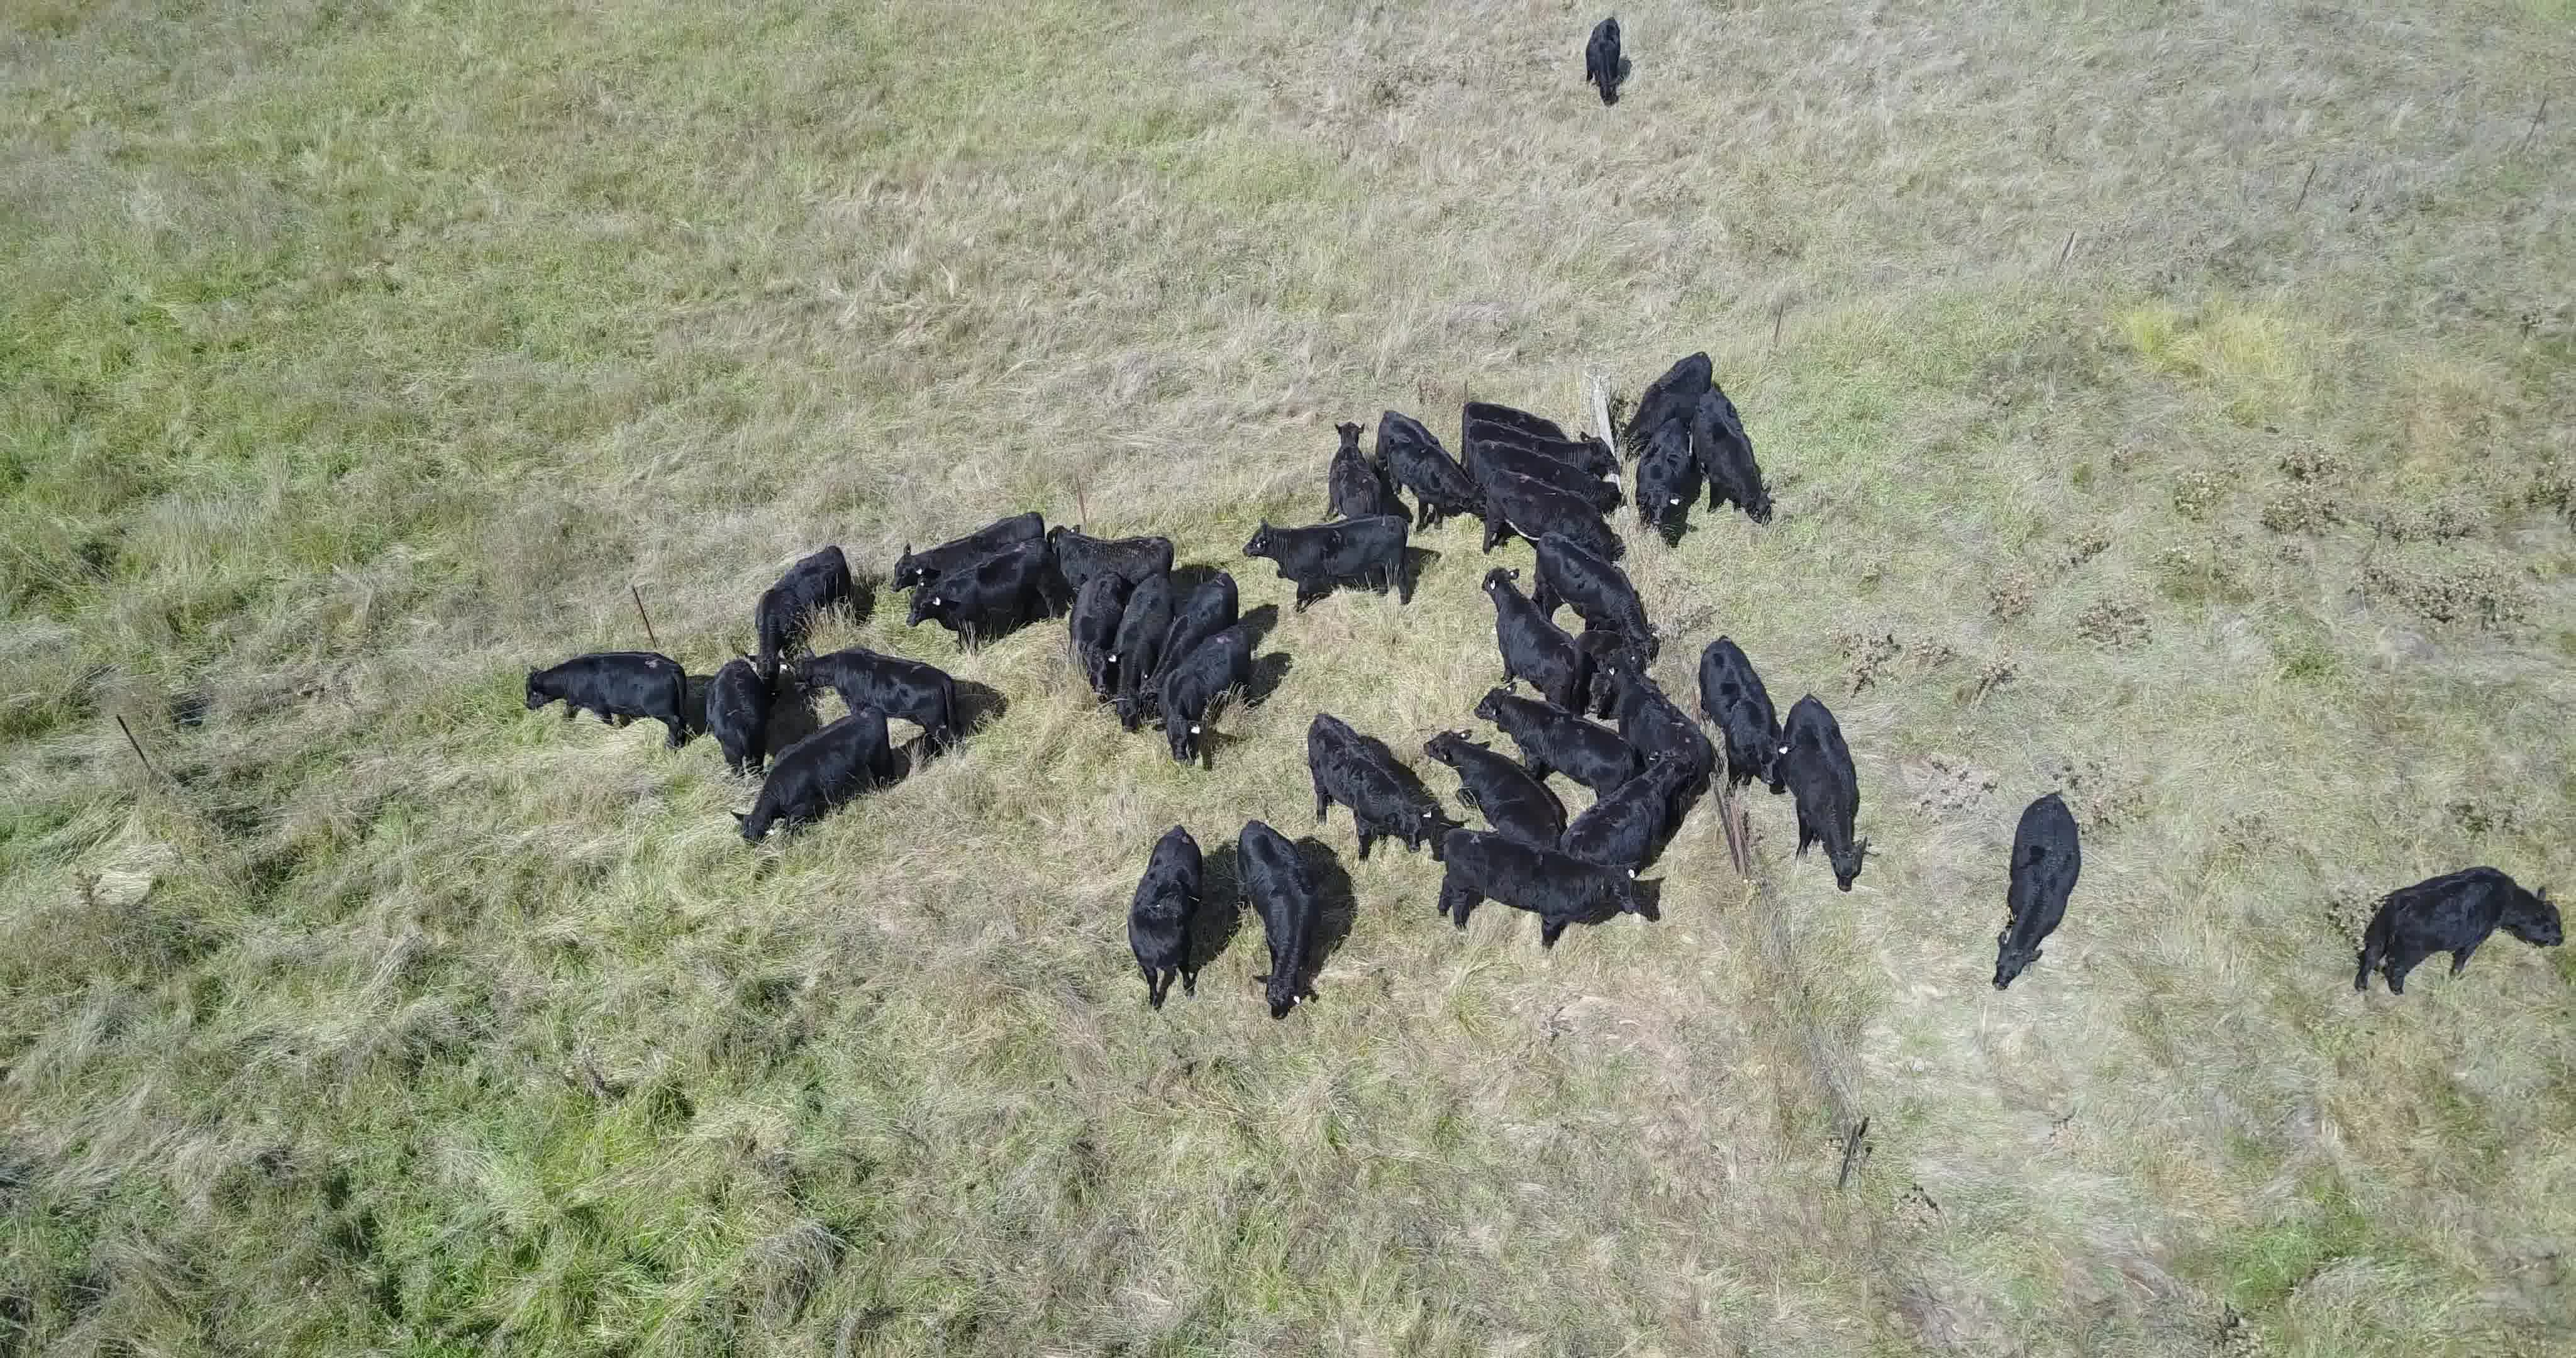cattle: (2344, 862, 2567, 1004), (724, 702, 900, 852), (1435, 826, 1647, 946), (1297, 709, 1445, 862), (518, 641, 692, 770), (1990, 787, 2089, 1000), (791, 639, 961, 757), (1780, 682, 1872, 898), (1228, 816, 1324, 1022), (1523, 530, 1670, 654), (1469, 683, 1639, 787), (1240, 513, 1416, 612), (1593, 644, 1714, 785), (745, 540, 855, 692), (1421, 724, 1561, 842), (1566, 746, 1697, 871), (1481, 566, 1591, 707), (1475, 469, 1630, 562), (1128, 818, 1199, 1014), (908, 550, 1055, 646), (1695, 634, 1782, 794), (883, 506, 1048, 590), (1164, 624, 1256, 770), (1693, 380, 1780, 532), (1465, 436, 1625, 513), (1141, 567, 1237, 692), (1455, 412, 1620, 480), (1617, 341, 1711, 455), (1634, 412, 1705, 547), (1118, 569, 1167, 741), (1046, 516, 1176, 581), (1382, 440, 1469, 533), (702, 653, 765, 779), (1067, 567, 1123, 705), (1453, 392, 1574, 448), (1327, 416, 1382, 520), (1370, 399, 1452, 463), (1579, 12, 1629, 106)
